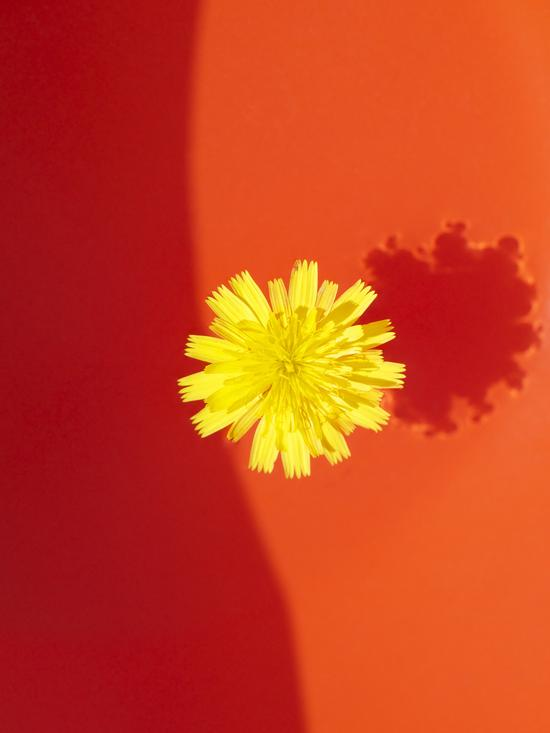dandelion: (177, 271, 404, 475)
